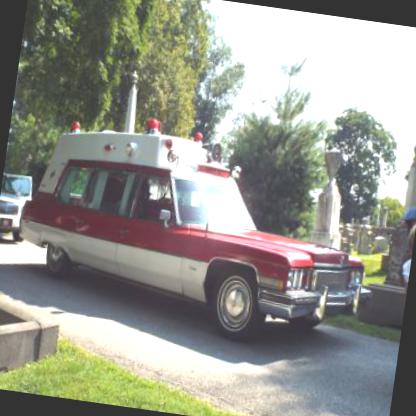truck: (6, 100, 398, 361)
